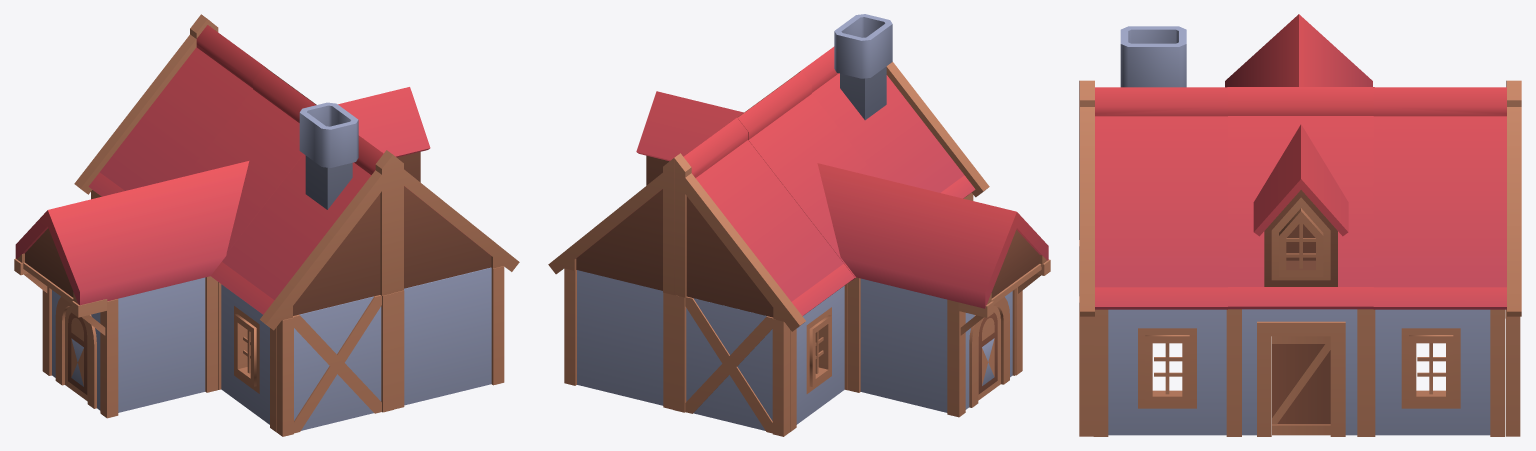
Rendered from House1.glb.
The picture shows the model from 3 angles, left to right: view 1: azimuth 30°, elevation 25°; view 2: azimuth 150°, elevation 25°; view 3: azimuth 270°, elevation 25°; orthographic projection. The views are drawn at different scales.
Parts seen in each view (by area): view 1: wall-doorway-square; view 2: wall-doorway-square; view 3: wall-doorway-square.
Part boxes in pixels (box(x1,y1,x2,y2)): wall-doorway-square: box(14, 14, 519, 436); wall-doorway-square: box(548, 14, 1050, 436); wall-doorway-square: box(1079, 14, 1521, 436).
Size of the model in its own units: 3.4 by 2.39 by 2.99.
13 materials, 13 textured.
